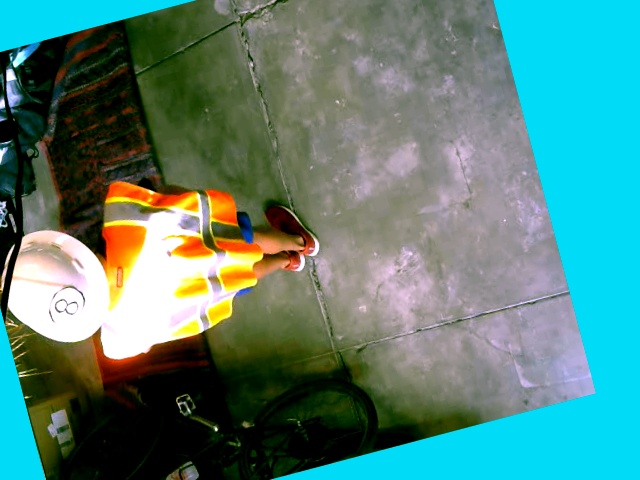eight: (41, 281, 90, 330)
